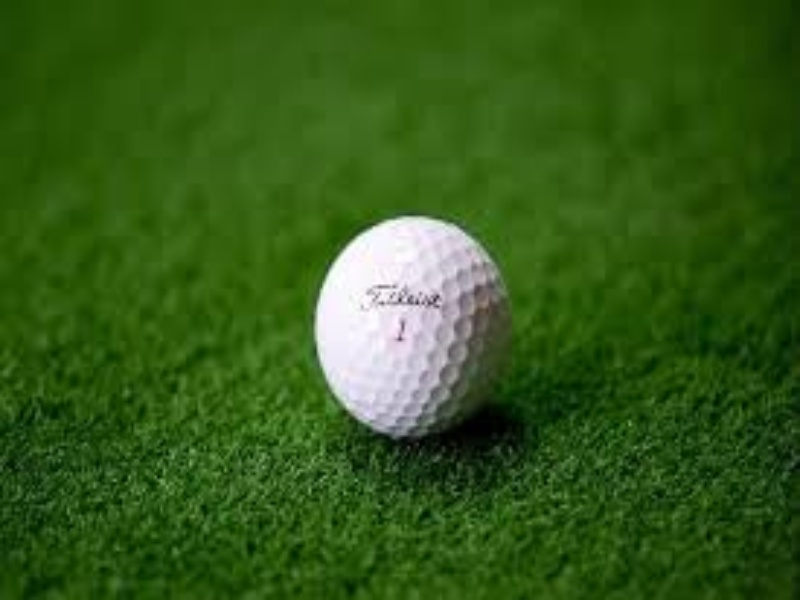golf_ball: (313, 215, 510, 440)
